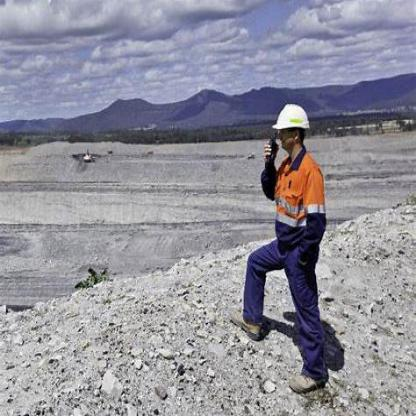person: (233, 94, 332, 387)
